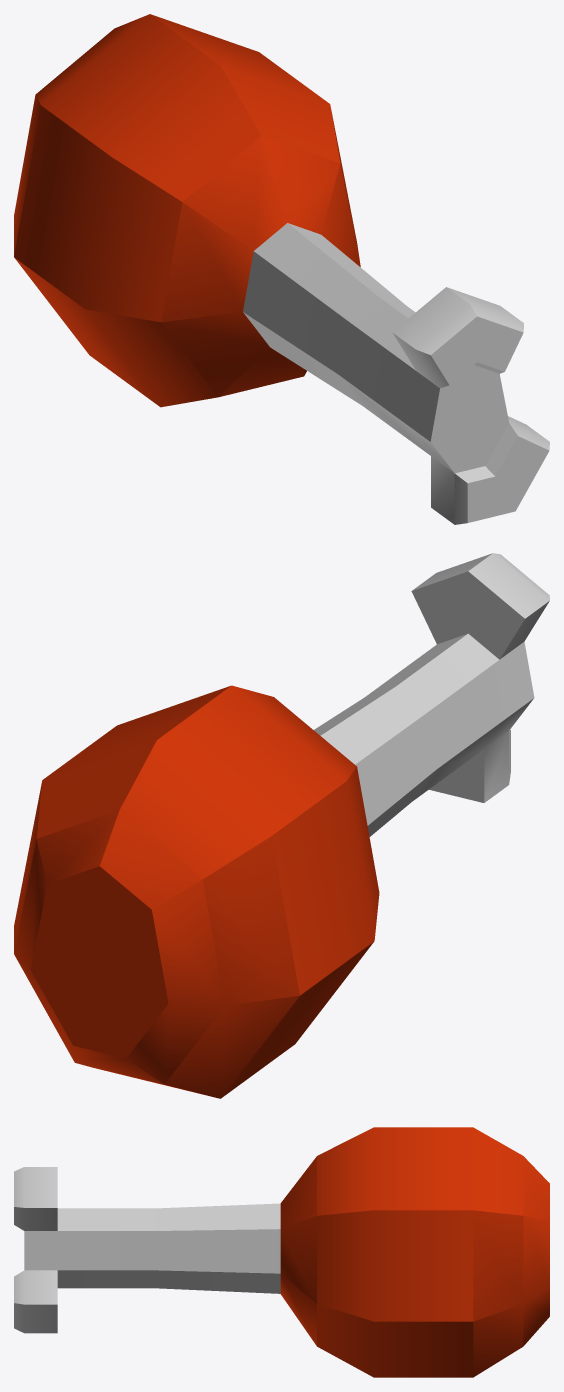
The model's file is Polloo.fbx.
The picture shows the model from 3 angles, top to bottom: view 1: azimuth 30°, elevation 25°; view 2: azimuth 150°, elevation 25°; view 3: azimuth 270°, elevation 25°; orthographic projection. The views are drawn at different scales.
Visible parts, largest first — view 1: Mesh; view 2: Mesh; view 3: Mesh.
Boxes of the visible parts, x1,y1,x2,y2 form: Mesh: (14,14,549,524); Mesh: (14,553,549,1098); Mesh: (14,1127,549,1377).
Bounding box in the file's own units: 331 × 380 × 806.
